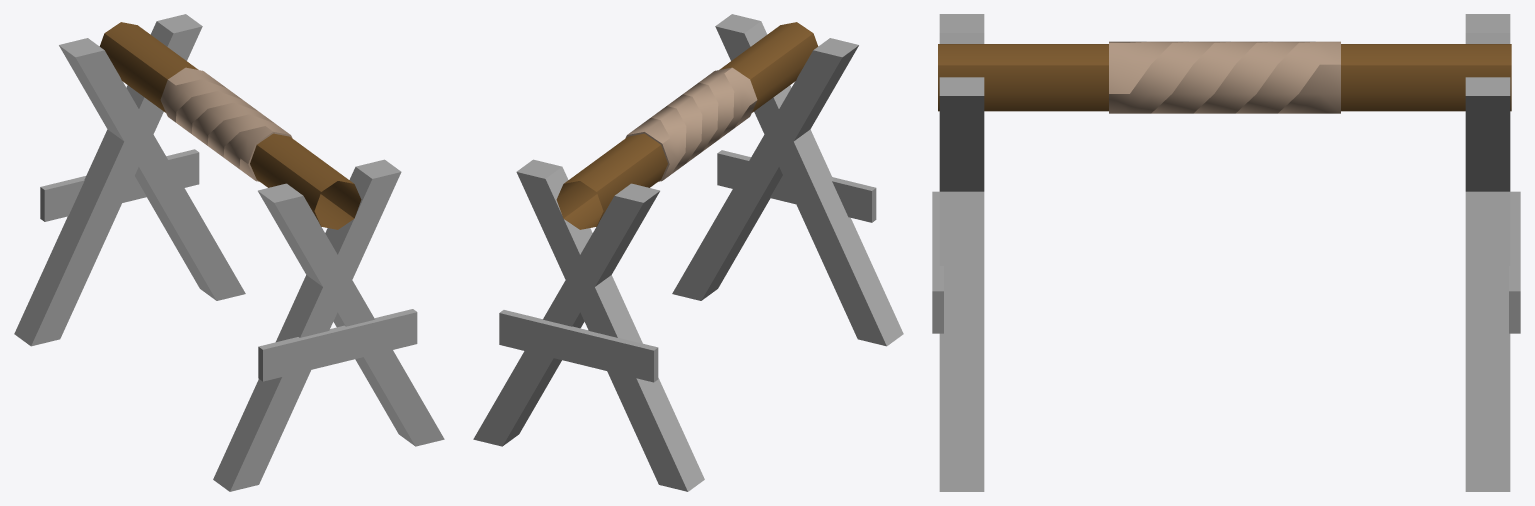
Rendered from standingBeam.fbx.
The picture shows the model from 3 angles, left to right: view 1: azimuth 30°, elevation 25°; view 2: azimuth 150°, elevation 25°; view 3: azimuth 270°, elevation 25°; orthographic projection. The views are drawn at different scales.
Visible parts, largest first — view 1: pCube66, wood, hook, pCube65, pCube64; view 2: pCube66, wood, hook, pCube64, pCube65; view 3: pCube66, wood, hook, pCube64, pCube65.
Part boxes in pixels (x1,y1,x2,y2): pCube66: (14,14,444,491); wood: (99,22,361,229); hook: (160,67,292,181); pCube65: (258,309,417,381); pCube64: (40,149,199,221); pCube66: (473,14,903,491); wood: (556,22,818,229); hook: (625,67,757,181); pCube64: (499,310,658,382); pCube65: (717,150,876,222); pCube66: (939,14,1510,491); wood: (938,44,1511,111); hook: (1109,41,1340,113); pCube64: (1509,191,1520,333); pCube65: (932,191,943,333).
Bounding box in the file's own units: 13.73 × 17.53 × 24.62.
